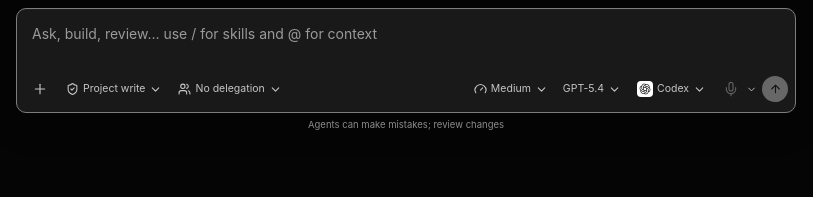
Test: composer attachments › attaches picked files, previews images, and appends paths to the sent prompt
Click the button named "Attach files or images from your computer" at (40, 89), box [24, 73, 56, 105]
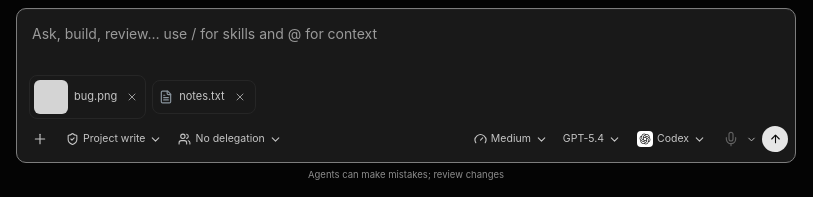
Now the text "bug.png" is shown, box [74, 88, 117, 106]
Type "what is this?" into the text box named "Task message" at (406, 39), box [17, 9, 795, 69]
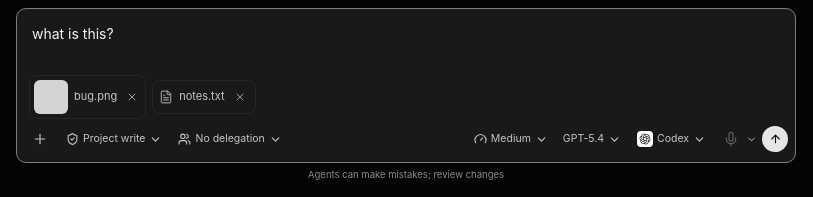
Click the button named "Send message" at (775, 139), box [762, 126, 788, 152]
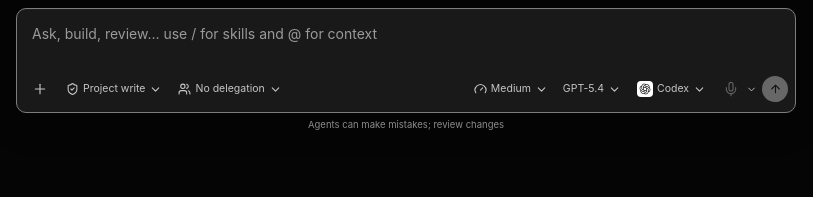
Now the text "bug.png" is gone
